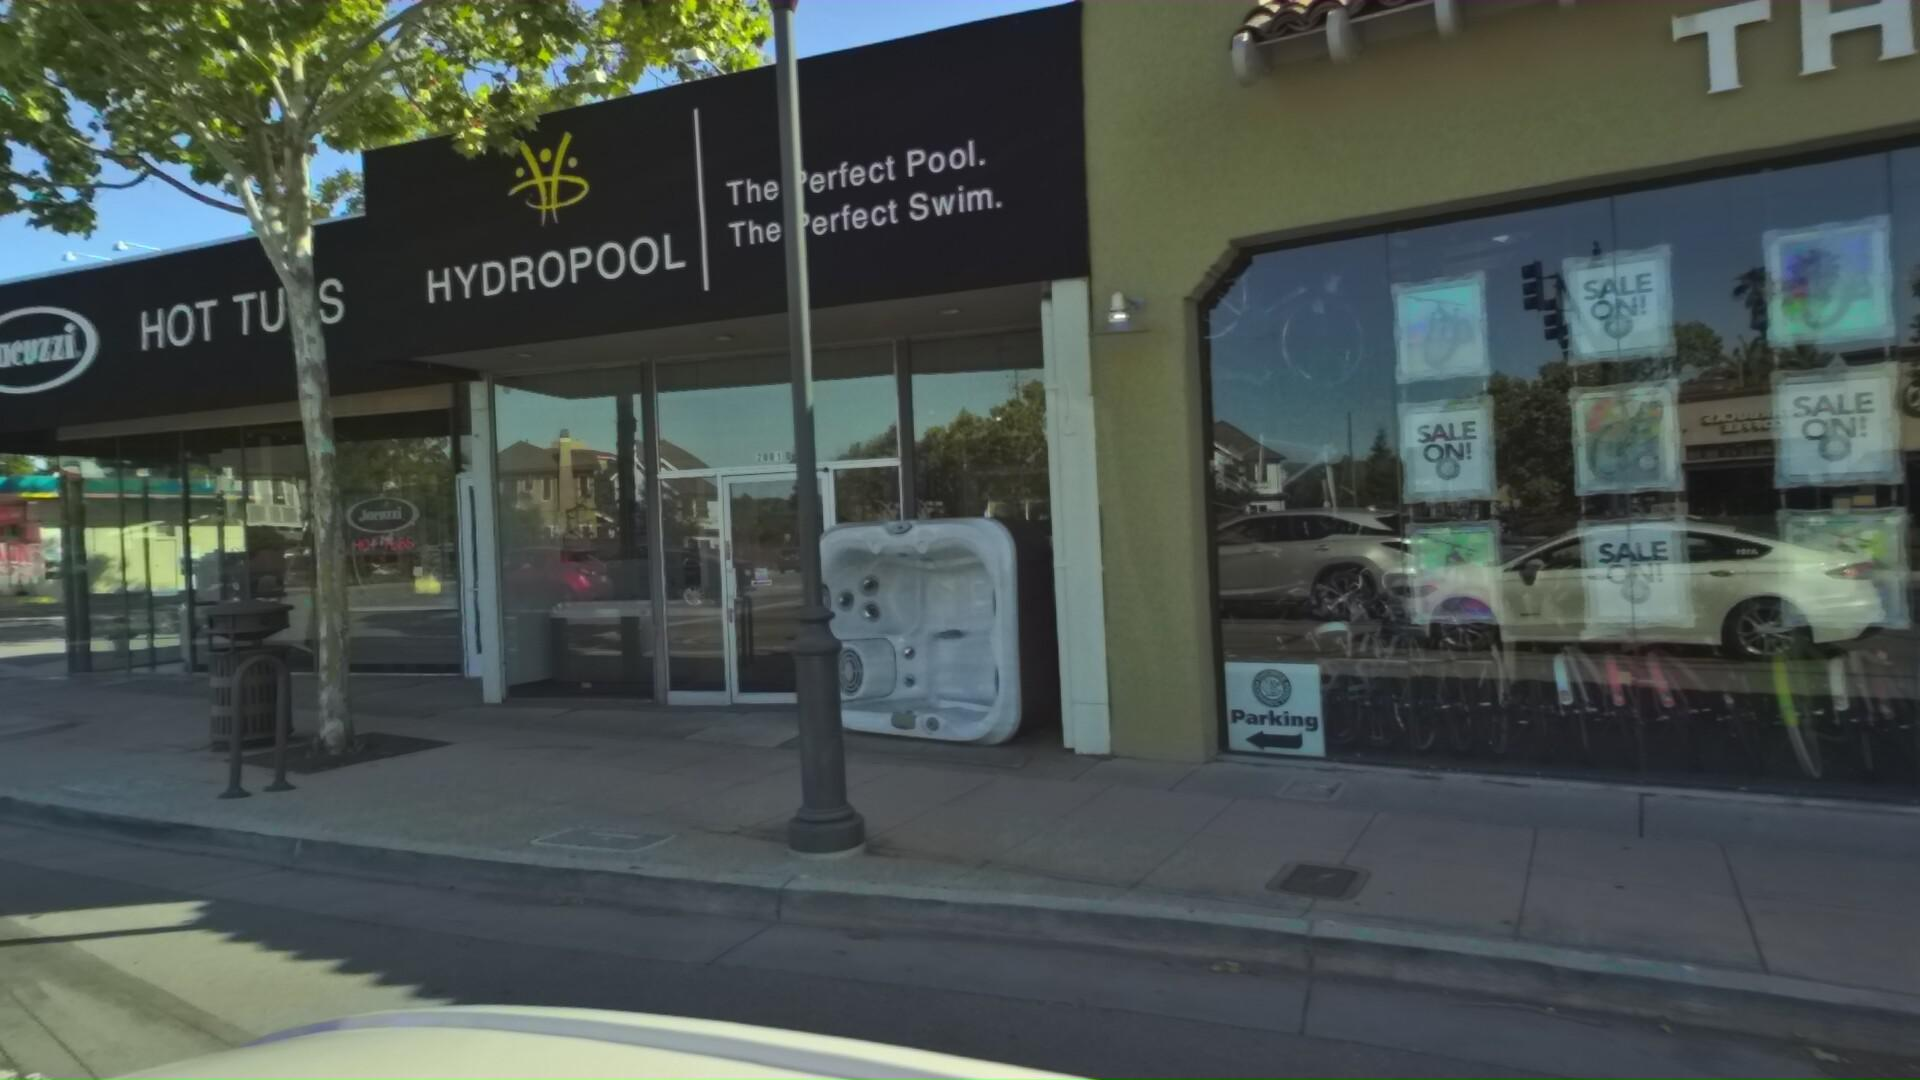truck: (0, 518, 111, 589)
